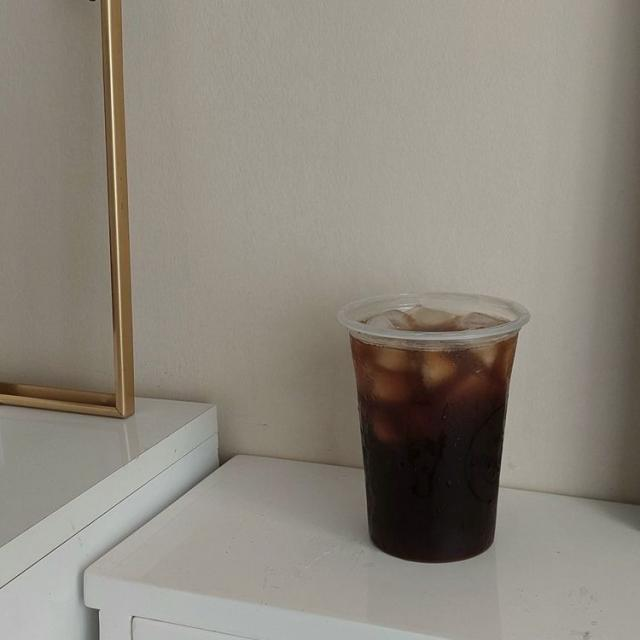plastic cup: (339, 290, 530, 563)
